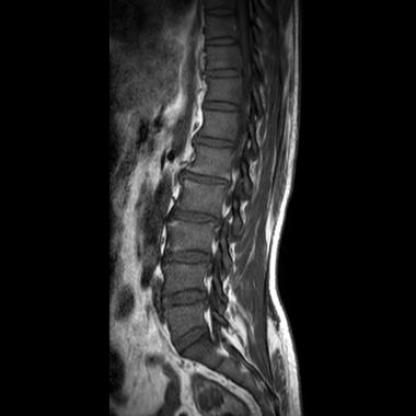Annular Tearrotation: (163, 286, 207, 311)
Disc Bulgerotation: (164, 286, 208, 313), (166, 207, 221, 226), (163, 246, 214, 265)
Disc Protrusionrotation: (177, 168, 228, 186)
